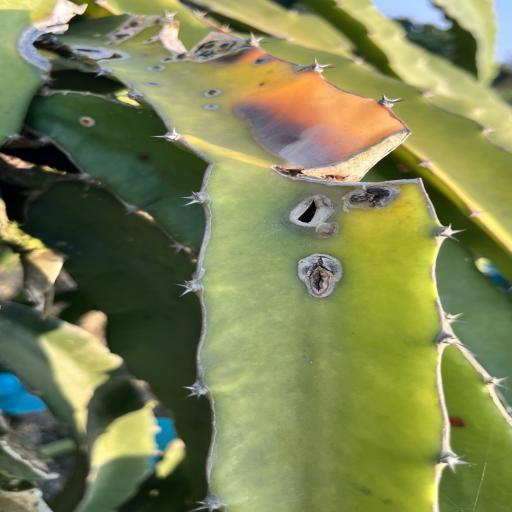stemcanker: (198, 87, 239, 112), (147, 56, 189, 72), (254, 81, 276, 91), (145, 80, 165, 90)
